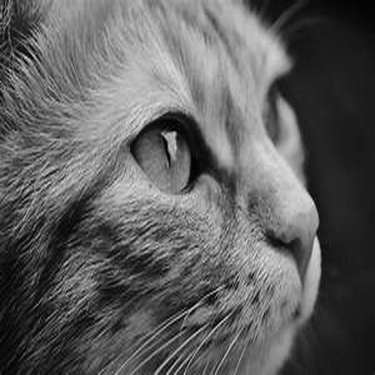cat: (9, 6, 327, 366)
